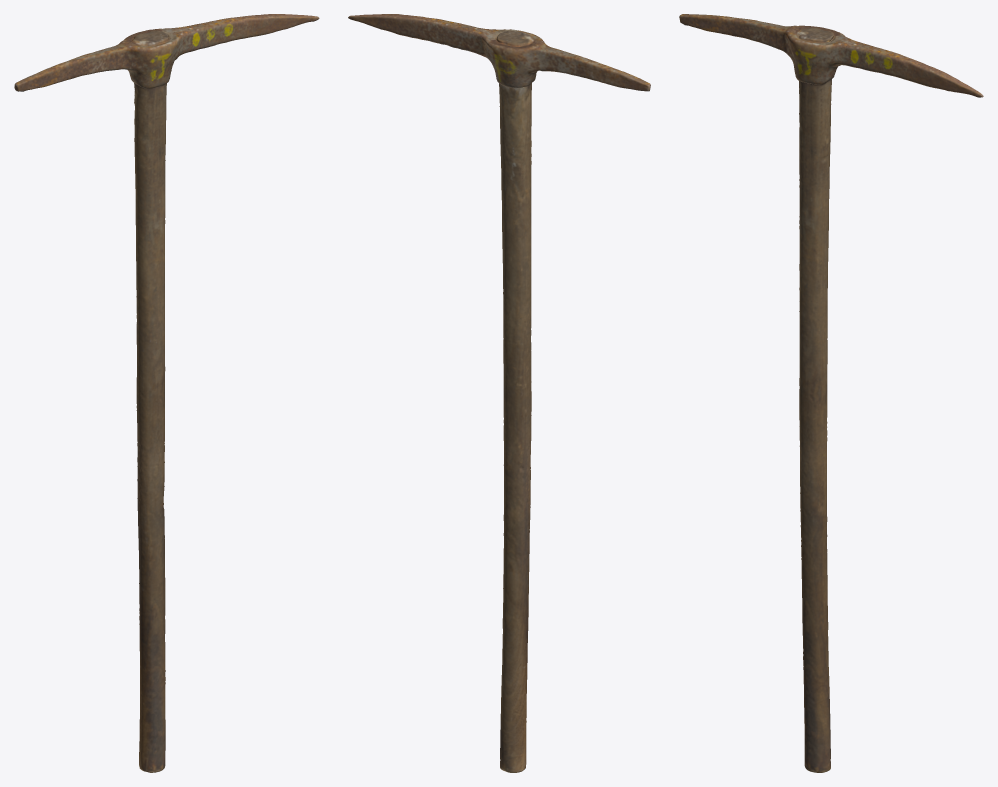
Rendered from rivelaine.glb.
3 views of the same model, side by side, from view 1: azimuth 30°, elevation 25°; view 2: azimuth 150°, elevation 25°; view 3: azimuth 330°, elevation 25° (orthographic).
Parts seen in each view (by area): view 1: CL_meshNode1; view 2: CL_meshNode1; view 3: CL_meshNode1.
Part boxes in pixels (left/top/right/bottom): CL_meshNode1: left=14, top=14, right=319, bottom=772; CL_meshNode1: left=348, top=14, right=650, bottom=772; CL_meshNode1: left=679, top=14, right=983, bottom=772.
Size of the model in its own units: 0.2839 by 0.6562 by 0.0364.
Materials: 1 (1 with a texture image).
